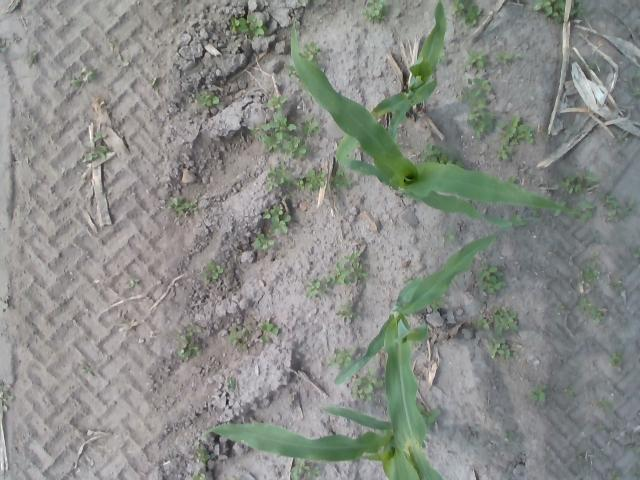Maize: (290, 22, 579, 225), (336, 223, 502, 460), (200, 404, 446, 480), (370, 0, 448, 144)
Weeds: (245, 113, 319, 160), (304, 250, 371, 300), (458, 78, 494, 140), (496, 114, 535, 160), (172, 322, 206, 363), (598, 189, 634, 225), (352, 367, 386, 403), (230, 12, 272, 41), (534, 0, 583, 23), (260, 202, 293, 236), (558, 166, 598, 192), (492, 302, 522, 335), (478, 262, 508, 294), (579, 250, 604, 288), (262, 163, 298, 189), (450, 0, 483, 28), (296, 168, 328, 194), (362, 0, 392, 27), (166, 196, 199, 219), (578, 299, 606, 326), (331, 297, 357, 322), (66, 64, 93, 88), (420, 145, 454, 164), (464, 46, 489, 70), (259, 320, 283, 345), (331, 168, 355, 192), (326, 348, 354, 368), (488, 338, 513, 360), (199, 262, 226, 282), (230, 326, 250, 352), (250, 232, 276, 252), (418, 404, 441, 426), (262, 92, 290, 110), (576, 201, 596, 226), (196, 90, 222, 109), (82, 146, 108, 164), (290, 457, 310, 480), (0, 382, 14, 413), (301, 40, 321, 61), (193, 442, 210, 466), (530, 385, 548, 404), (474, 315, 492, 332), (597, 398, 614, 414), (442, 229, 458, 246), (495, 52, 513, 66), (26, 50, 40, 68), (126, 274, 141, 289), (512, 214, 528, 228), (80, 365, 96, 379), (609, 280, 624, 294), (116, 54, 130, 68), (610, 350, 622, 366), (432, 300, 448, 312), (608, 469, 624, 480), (225, 377, 237, 391), (624, 444, 640, 454), (630, 244, 640, 260), (283, 63, 296, 75), (564, 385, 576, 397), (0, 38, 8, 56), (190, 472, 208, 480), (310, 466, 322, 478), (554, 302, 568, 312), (92, 132, 106, 142), (314, 0, 329, 9), (629, 466, 640, 478), (530, 208, 542, 218), (618, 132, 630, 142), (630, 70, 640, 82), (108, 37, 117, 50), (596, 420, 605, 432), (506, 432, 515, 444), (554, 200, 568, 207), (590, 58, 598, 70), (150, 76, 158, 88), (576, 454, 585, 464), (633, 87, 640, 98), (455, 161, 466, 168), (514, 52, 522, 60), (544, 133, 550, 143), (553, 210, 561, 216), (508, 176, 516, 182), (626, 434, 631, 442)
